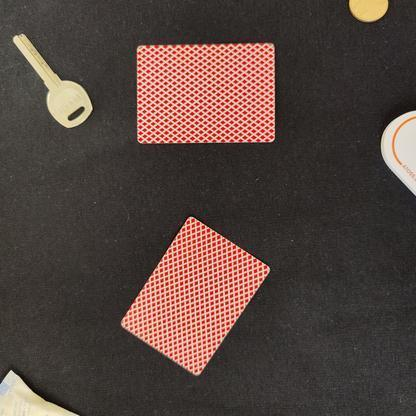card: (103, 203, 285, 385), (113, 28, 291, 157)
